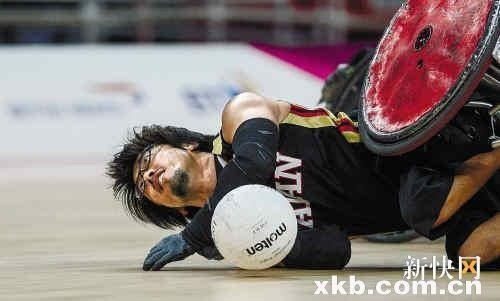falling: (109, 75, 489, 281)
